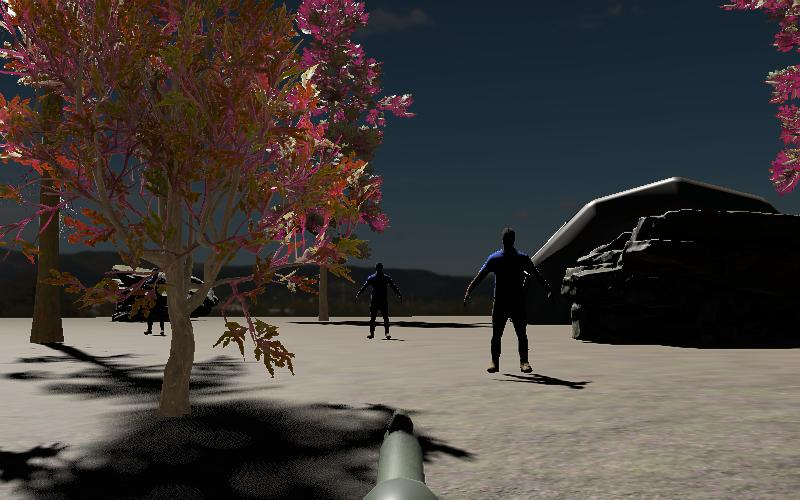Human: (460, 225, 549, 376), (353, 259, 405, 342)
